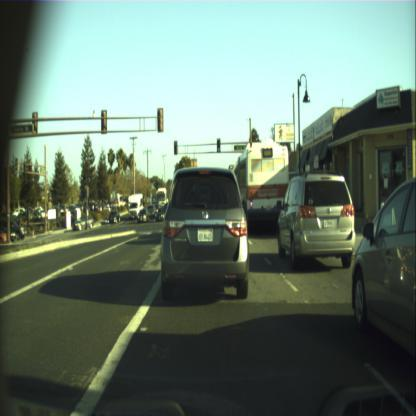Green: (216, 138, 220, 152)
RedLeft: (174, 140, 178, 154)
